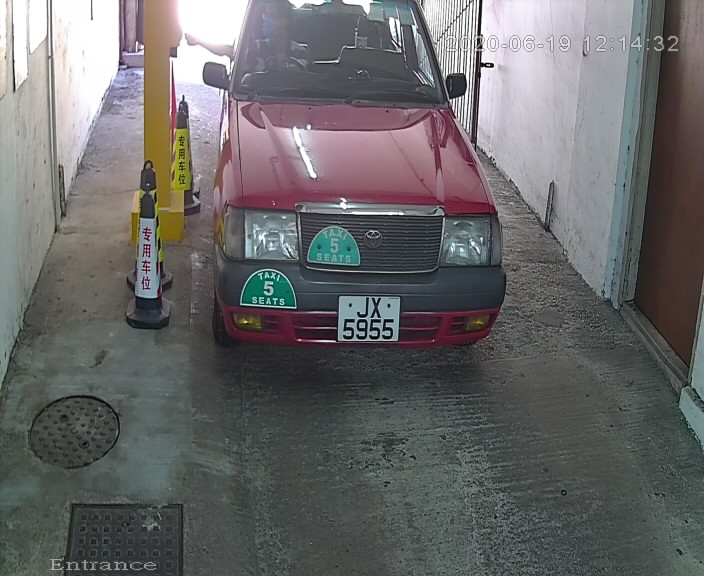taxi: (191, 1, 516, 376)
taxi_mark: (301, 220, 375, 278), (236, 262, 305, 318)
